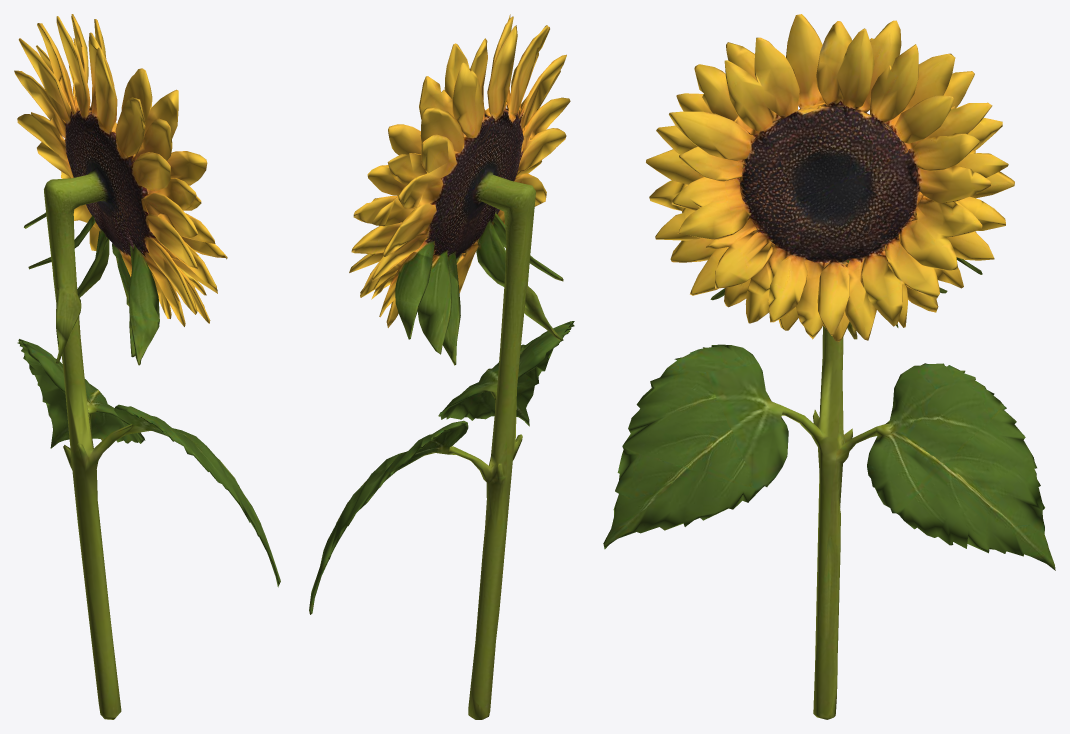
File: sunflower.glb
3 renders of one model, left to right at view 1: azimuth 30°, elevation 25°; view 2: azimuth 150°, elevation 25°; view 3: azimuth 270°, elevation 25°, orthographic.
Visible parts, largest first — view 1: tripo_node_86d3e54d-0a2e-473b-885d-3f293efc70c4; view 2: tripo_node_86d3e54d-0a2e-473b-885d-3f293efc70c4; view 3: tripo_node_86d3e54d-0a2e-473b-885d-3f293efc70c4.
Part boxes in pixels (x1,y1,x2,y2): tripo_node_86d3e54d-0a2e-473b-885d-3f293efc70c4: [14, 14, 280, 719]; tripo_node_86d3e54d-0a2e-473b-885d-3f293efc70c4: [309, 14, 574, 719]; tripo_node_86d3e54d-0a2e-473b-885d-3f293efc70c4: [603, 14, 1055, 719].
Size of the model in its own units: 0.2259 by 0.9983 by 0.5904.
1 material, 1 textured.
